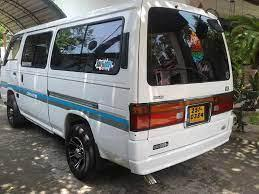Van: (4, 2, 237, 184)
